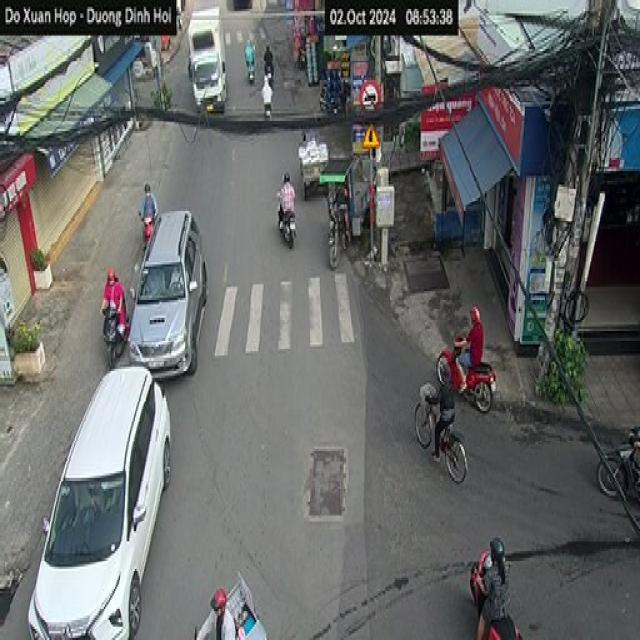car: (27, 364, 172, 638), (128, 209, 208, 378)
motorcycle: (413, 384, 468, 482), (431, 340, 498, 412), (475, 573, 517, 640), (598, 430, 640, 494), (101, 304, 130, 369), (276, 191, 296, 249)
person: (472, 536, 522, 638), (429, 356, 455, 460), (454, 304, 484, 394), (194, 586, 236, 638), (100, 267, 126, 340), (276, 171, 295, 233), (139, 182, 156, 249), (244, 38, 255, 82)
truck: (183, 10, 233, 120)
